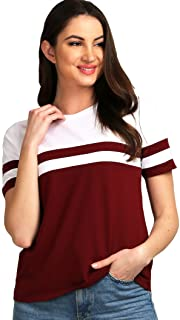tops: (1, 96, 180, 303)
